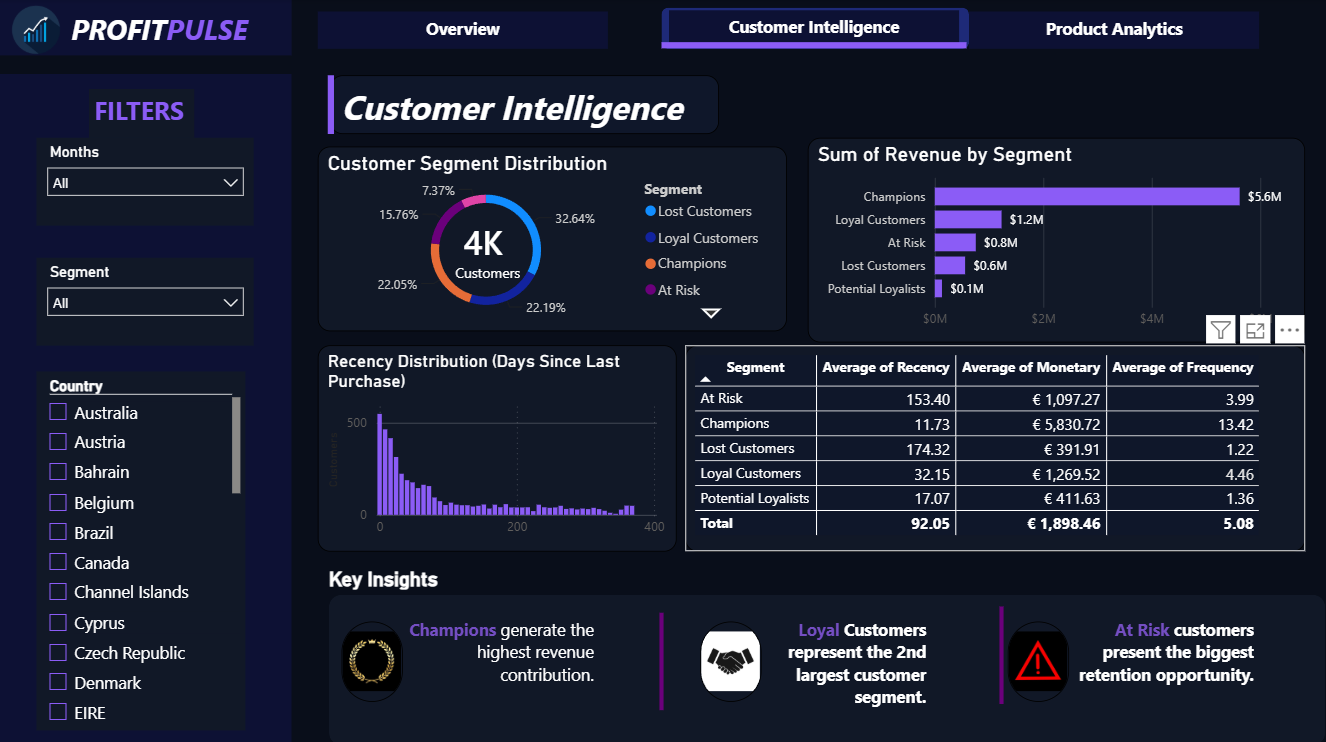

The page's visual inventory and layout, read from the dashboard file:
{"tool":"powerbi","page":{"name":"Customer Intelligence","canvas":[1280,720],"ordinal":1},"visuals":[{"type":"shape","box":[0,72.4,282.3,647.9],"z":0},{"type":"textbox","box":[319.7,73.6,375.2,57],"z":0,"group":"g1"},{"type":"shape","box":[639.4,8.4,296.8,39.8],"z":500,"group":"g2"},{"type":"textbox","box":[0,0,282.3,54.3],"z":1000},{"type":"shape","box":[300.4,73.6,39.8,56.7],"z":1000,"group":"g1"},{"type":"textbox","box":[307.6,12.1,280,36.2],"z":2000},{"type":"textbox","box":[646.6,10.8,280,36.2],"z":3000,"group":"g2"},{"type":"textbox","box":[936.1,12.1,280,36.2],"z":3000},{"type":"slicer","fields":{"Values":["cleaned_retail_data.Country"]},"box":[36.2,359.5,201.5,346.2],"z":4000},{"type":"slicer","fields":{"Values":["rfm_segmentation.Segment"]},"box":[36.2,249.7,209.9,84.5],"z":5000},{"type":"slicer","fields":{"Values":["cleaned_retail_data.Month_Name"]},"box":[36.2,133.9,209.9,84.5],"z":6000},{"type":"textbox","box":[86.9,86.9,101.3,47.1],"z":7000},{"type":"image","box":[10.9,4.8,49.5,49.5],"z":8000},{"type":"shape","box":[639.4,38.6,294.4,12.1],"z":8001,"group":"g2"},{"type":"group","id":"g1","title":"Group 2","box":[300.4,73.6,394.5,56.7],"z":9000},{"type":"donutChart","title":"Customer Segment Distribution","fields":{"Category":["rfm_segmentation.Segment"],"Y":["CountNonNull(rfm_segmentation.CustomerID)"]},"box":[307.6,142.4,452.4,178.6],"z":10000},{"type":"cardVisual","fields":{"Data":["cleaned_retail_data.Total Customers"]},"box":[422,202.7,88.1,59.1],"z":11000},{"type":"textbox","box":[427.1,249.7,89.3,31.4],"z":12000},{"type":"clusteredBarChart","fields":{"Category":["rfm_segmentation.Segment"],"Y":["Sum(cleaned_retail_data.Revenue)"]},"box":[780.6,133.9,480.2,197.9],"z":13000},{"type":"clusteredColumnChart","title":"Recency Distribution (Days Since Last Purchase)","fields":{"Y":["CountNonNull(rfm_segmentation.CustomerID)"],"Category":["rfm_segmentation.Recency (bins)"]},"box":[307.6,334.2,346.2,199.1],"z":14000},{"type":"pivotTable","fields":{"Rows":["rfm_segmentation.Segment"],"Values":["Avg(rfm_segmentation.Recency)","Avg(rfm_segmentation.Monetary)","Avg(rfm_segmentation.Frequency)"]},"box":[662.3,334.2,598.4,199.1],"z":15000},{"type":"shape","title":"   Key Insights","box":[318.5,545.3,961.5,174.9],"z":16000},{"type":"textbox","box":[384.9,592.4,194.2,94.1],"z":17000},{"type":"shape","box":[633.4,592.4,12.1,94],"z":18000},{"type":"textbox","box":[705.8,592.4,194.2,105],"z":19000},{"type":"textbox","box":[1021.9,592.4,194.2,94.1],"z":20000},{"type":"shape","box":[961.5,586.3,12.1,94.1],"z":21000},{"type":"image","box":[330.6,600.8,59.1,77.2],"z":22000},{"type":"image","box":[676.8,600.8,59.1,77.2],"z":23000},{"type":"image","box":[973.6,600.8,59.1,77.2],"z":24000},{"type":"group","id":"g2","title":"Group 1","box":[639.4,8.4,296.8,42.2],"z":25000},{"type":"actionButton","box":[307,12,280,36],"z":26000},{"type":"actionButton","box":[961.9,12.3,279.9,35.7],"z":27000}]}

Visuals, with their boxes in screenshot pixels (x1, y1, x2, y2), scaled from the page's 1280x720 canvas onto the 1326x742 screenshot:
shape: x1=0 y1=75 x2=292 y2=741
textbox: x1=331 y1=76 x2=720 y2=135
shape: x1=662 y1=9 x2=970 y2=50
textbox: x1=0 y1=0 x2=292 y2=56
shape: x1=311 y1=76 x2=352 y2=134
textbox: x1=319 y1=12 x2=609 y2=50
textbox: x1=670 y1=11 x2=960 y2=48
textbox: x1=970 y1=12 x2=1260 y2=50
slicer - cleaned_retail_data.Country: x1=38 y1=370 x2=246 y2=727
slicer - rfm_segmentation.Segment: x1=38 y1=257 x2=255 y2=344
slicer - cleaned_retail_data.Month_Name: x1=38 y1=138 x2=255 y2=225
textbox: x1=90 y1=90 x2=195 y2=138
image: x1=11 y1=5 x2=63 y2=56
shape: x1=662 y1=40 x2=967 y2=52
"Group 2" group: x1=311 y1=76 x2=720 y2=134
"Customer Segment Distribution" donutChart: x1=319 y1=147 x2=787 y2=331
cardVisual - cleaned_retail_data.Total Customers: x1=437 y1=209 x2=528 y2=270
textbox: x1=442 y1=257 x2=535 y2=290
clusteredBarChart - rfm_segmentation.Segment x Sum(cleaned_retail_data.Revenue): x1=809 y1=138 x2=1306 y2=342
"Recency Distribution (Days Since Last Purchase)" clusteredColumnChart: x1=319 y1=344 x2=677 y2=550
pivotTable - rfm_segmentation.Segment x Avg(rfm_segmentation.Recency): x1=686 y1=344 x2=1306 y2=550
"   Key Insights" shape: x1=330 y1=562 x2=1325 y2=741
textbox: x1=399 y1=611 x2=600 y2=707
shape: x1=656 y1=611 x2=669 y2=707
textbox: x1=731 y1=611 x2=932 y2=719
textbox: x1=1059 y1=611 x2=1260 y2=707
shape: x1=996 y1=604 x2=1009 y2=701
image: x1=342 y1=619 x2=404 y2=699
image: x1=701 y1=619 x2=762 y2=699
image: x1=1009 y1=619 x2=1070 y2=699
"Group 1" group: x1=662 y1=9 x2=970 y2=52
actionButton: x1=318 y1=12 x2=608 y2=49
actionButton: x1=996 y1=13 x2=1286 y2=49
